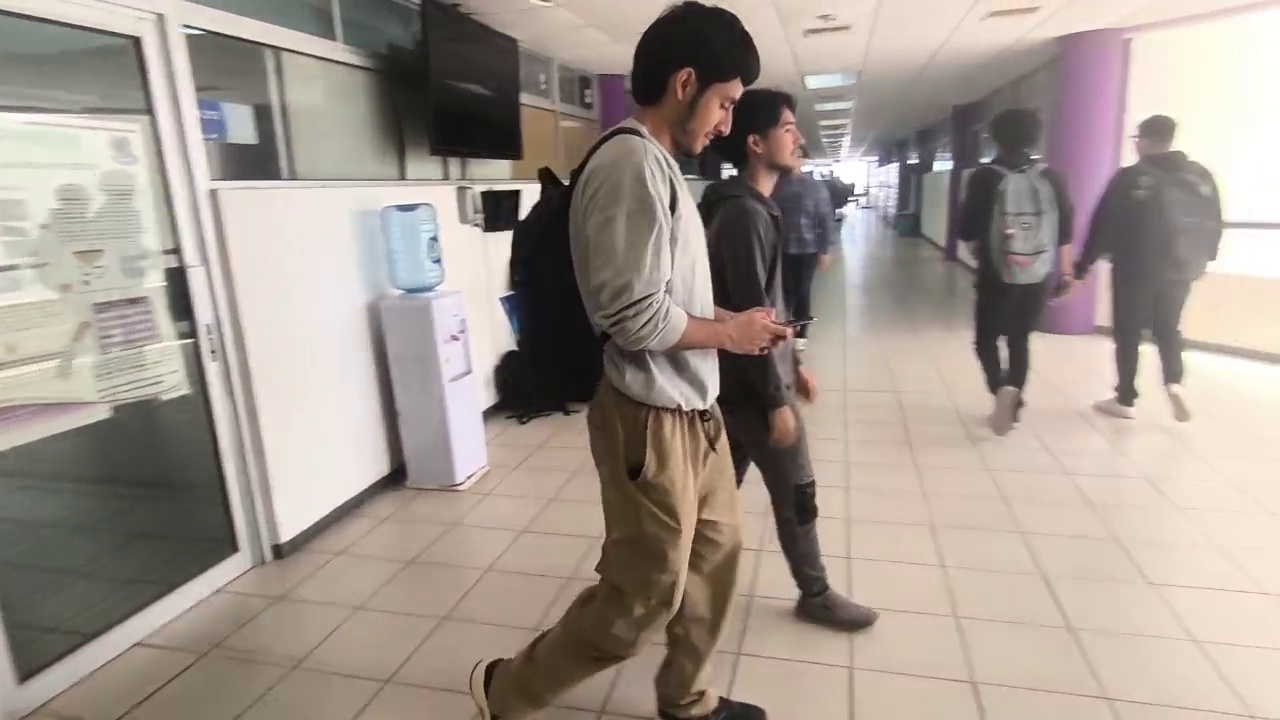mixto2: (777, 307, 824, 331)
